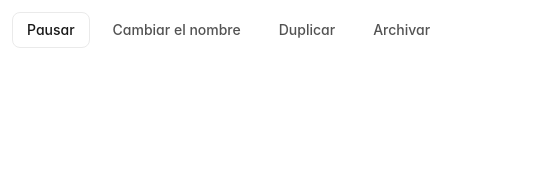
Scenario: activar › «Duplicar» gira y apaga la fila mientras corre: un segundo clic no hace otra copia
What coordinates should you click on to do the following:
click the button "Duplicar"
I would click on:
 (307, 30)
Its box is [264, 12, 350, 48].
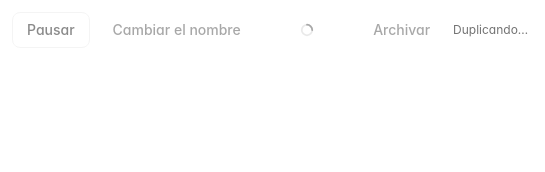
Expected: the text "Duplicando…" is shown, [453, 22, 528, 38]
Expected: the button named "Duplicar" is disabled
Expected: the button "Pausar" is disabled, [12, 12, 90, 48]
What coordinates should you click on to do the following:
click the button named "Duplicar"
I would click on:
 (307, 30)
Its box is [264, 12, 350, 48].
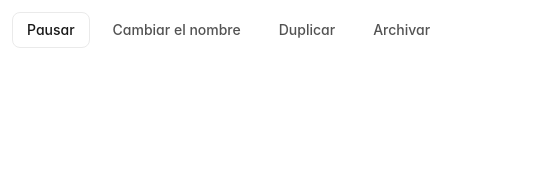
Expected: the button "Duplicar" is enabled, [264, 12, 350, 48]
